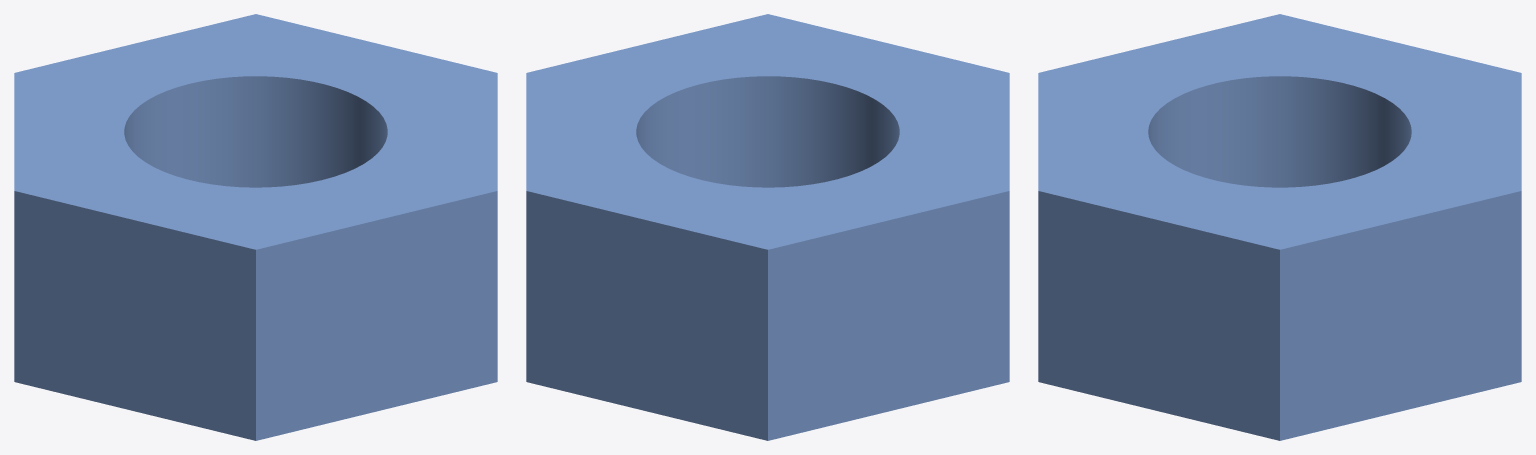
The picture shows the model from 3 angles, left to right: view 1: azimuth 30°, elevation 25°; view 2: azimuth 150°, elevation 25°; view 3: azimuth 270°, elevation 25°; orthographic projection.
Parts seen in each view (by area): view 1: mesh79035, mesh79038, mesh79040, mesh79033; view 2: mesh79035, mesh79039, mesh79041, mesh79033; view 3: mesh79035, mesh79036, mesh79037, mesh79033.
Part boxes in pixels (left/top/right/bottom): mesh79035: left=14, top=14, right=497, bottom=249; mesh79038: left=256, top=191, right=497, bottom=440; mesh79040: left=14, top=191, right=255, bottom=440; mesh79033: left=124, top=76, right=387, bottom=187; mesh79035: left=526, top=14, right=1009, bottom=249; mesh79039: left=526, top=191, right=767, bottom=440; mesh79041: left=768, top=191, right=1009, bottom=440; mesh79033: left=636, top=76, right=899, bottom=187; mesh79035: left=1038, top=14, right=1521, bottom=249; mesh79036: left=1038, top=191, right=1279, bottom=440; mesh79037: left=1280, top=191, right=1521, bottom=440; mesh79033: left=1148, top=76, right=1411, bottom=187.
Bounding box in the file's own units: 0.00635 × 0.0024 × 0.0055.
